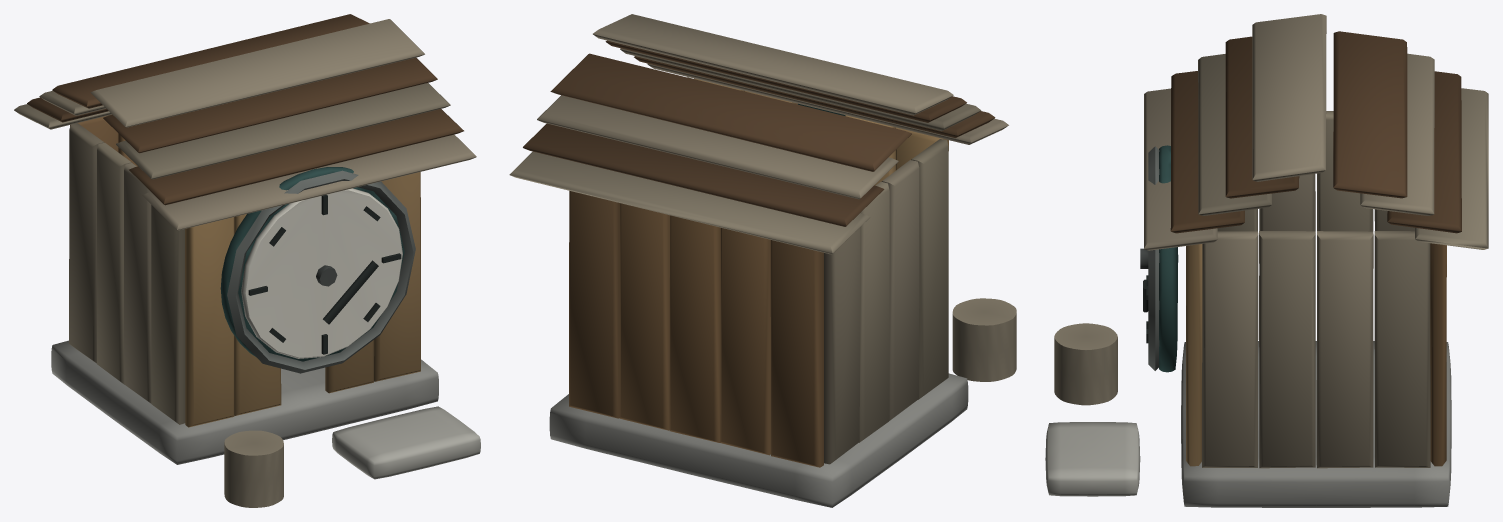
Rendered from gauge_dial_shed_b.glb.
The picture shows the model from 3 angles, left to right: view 1: azimuth 30°, elevation 25°; view 2: azimuth 150°, elevation 25°; view 3: azimuth 270°, elevation 25°; orthographic projection. The views are drawn at different scales.
Visible parts, largest first — view 1: Surface; view 2: Surface; view 3: Surface.
Part boxes in pixels (x1,y1,x2,y2): Surface: [14, 14, 480, 507]; Surface: [509, 14, 1016, 507]; Surface: [1045, 14, 1488, 507].
Bounding box in the file's own units: 2.71 × 2.88 × 3.27.
